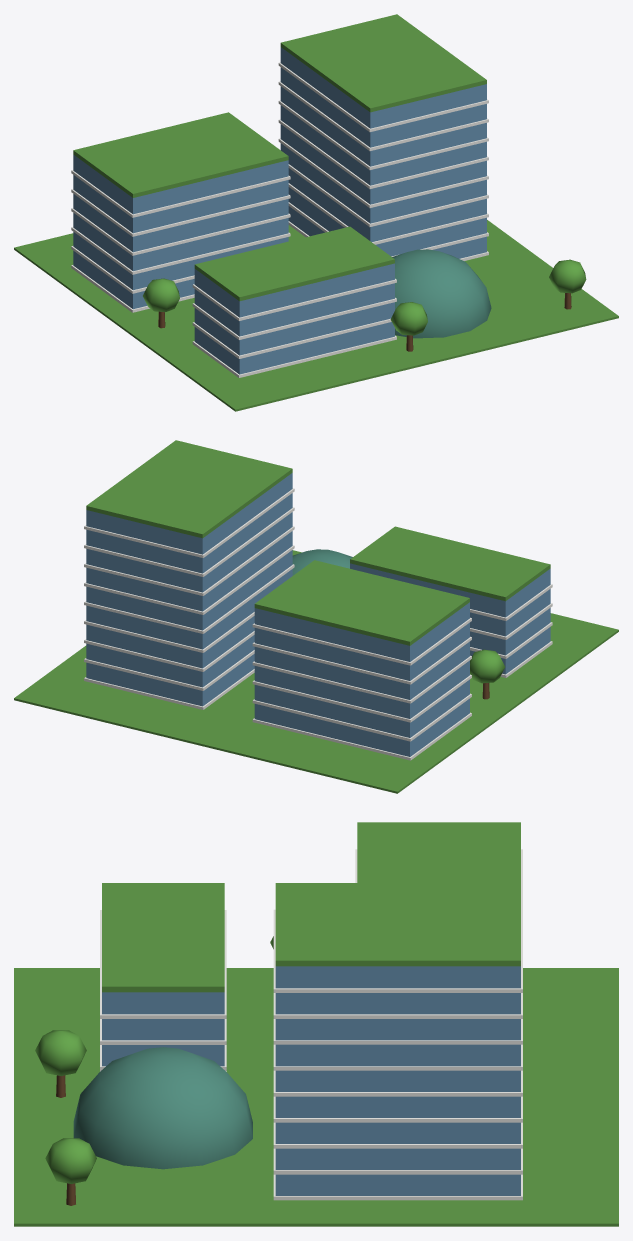
Rendered from building_hab_inovasi.glb.
3 renders of one model, top to bottom at view 1: azimuth 30°, elevation 25°; view 2: azimuth 150°, elevation 25°; view 3: azimuth 270°, elevation 25°, orthographic. The views are drawn at different scales.
Visible parts, largest first — view 1: building_hab_inovasi; view 2: building_hab_inovasi; view 3: building_hab_inovasi.
Part boxes in pixels (left/top/right/bottom): building_hab_inovasi: left=14, top=14, right=618, bottom=411; building_hab_inovasi: left=14, top=440, right=618, bottom=793; building_hab_inovasi: left=14, top=822, right=618, bottom=1226.
Bounding box in the file's own units: 2.96 × 1.3 × 2.96.
